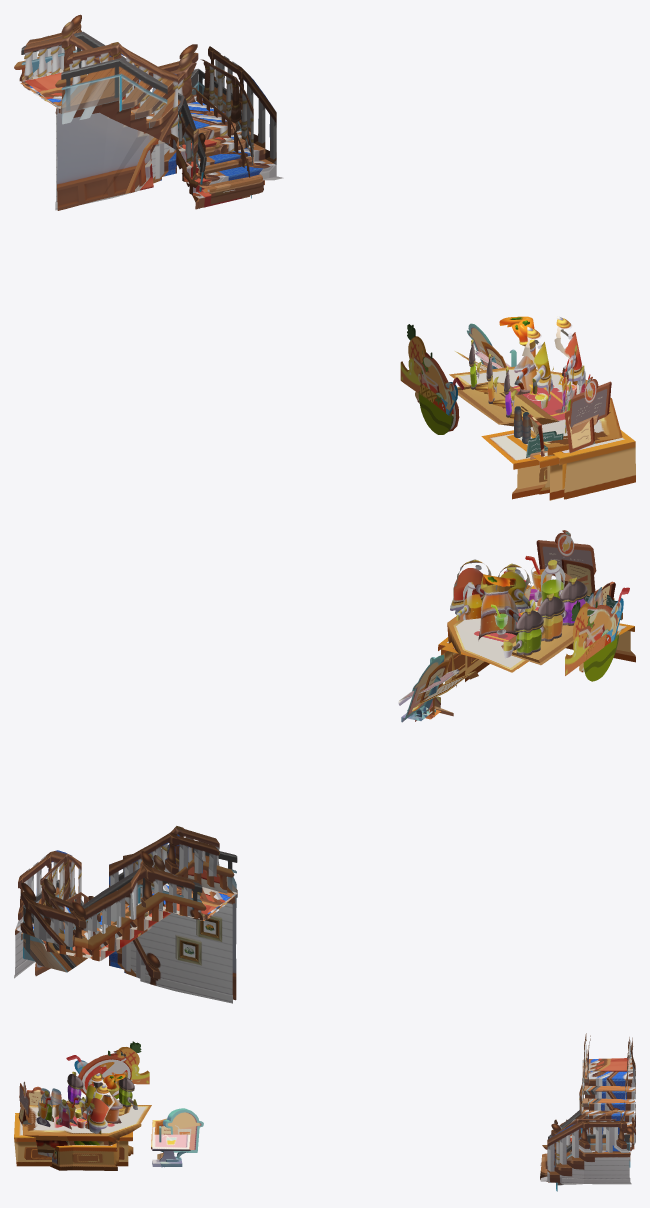
Rendered from louti-guozhiji2.fbx.
3 renders of one model, top to bottom at view 1: azimuth 30°, elevation 25°; view 2: azimuth 150°, elevation 25°; view 3: azimuth 270°, elevation 25°, orthographic. The views are drawn at different scales.
Visible parts, largest first — view 1: decoration_20052, decoration_20051, stall_20104, decoration_20053, decoration_20054, stall_20101, stall_20102, stall_20103; view 2: decoration_20053, stall_20104, decoration_20051, stall_20102, stall_20101, stall_20103, decoration_20054, decoration_20052; view 3: decoration_20053, stall_20104, stall_20101, stall_20103, stall_20102, decoration_20054, decoration_20052, decoration_20051.
Part boxes in pixels (x1,y1,x2,y2): decoration_20052: [21, 21, 263, 204]; decoration_20051: [14, 55, 250, 210]; stall_20104: [400, 323, 622, 494]; decoration_20053: [19, 14, 283, 210]; decoration_20054: [20, 31, 264, 208]; stall_20101: [417, 316, 635, 499]; stall_20102: [418, 316, 584, 500]; stall_20103: [413, 345, 585, 499]; decoration_20053: [14, 832, 234, 1003]; stall_20104: [401, 530, 617, 721]; decoration_20051: [35, 858, 236, 1000]; stall_20102: [412, 559, 629, 721]; stall_20101: [419, 556, 612, 719]; stall_20103: [398, 560, 635, 722]; decoration_20054: [21, 844, 237, 972]; decoration_20052: [40, 826, 235, 937]; decoration_20053: [540, 1035, 635, 1184]; stall_20104: [19, 1041, 203, 1167]; stall_20101: [14, 1050, 170, 1166]; stall_20103: [37, 1054, 190, 1170]; stall_20102: [27, 1055, 163, 1159]; decoration_20054: [548, 1040, 630, 1191]; decoration_20052: [540, 1033, 629, 1181]; decoration_20051: [542, 1045, 634, 1168].
Size of the model in its own units: 3.54 by 2.96 by 14.58.
